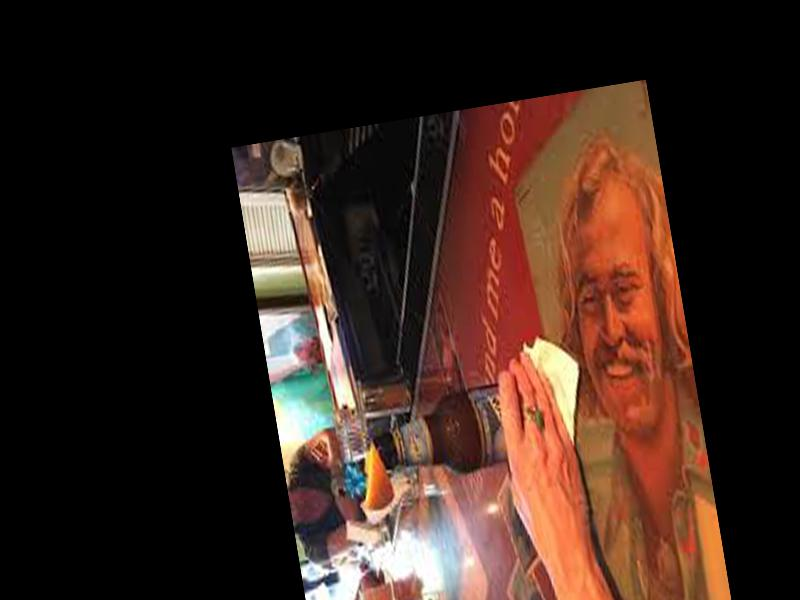Beer: (362, 371, 563, 482)
